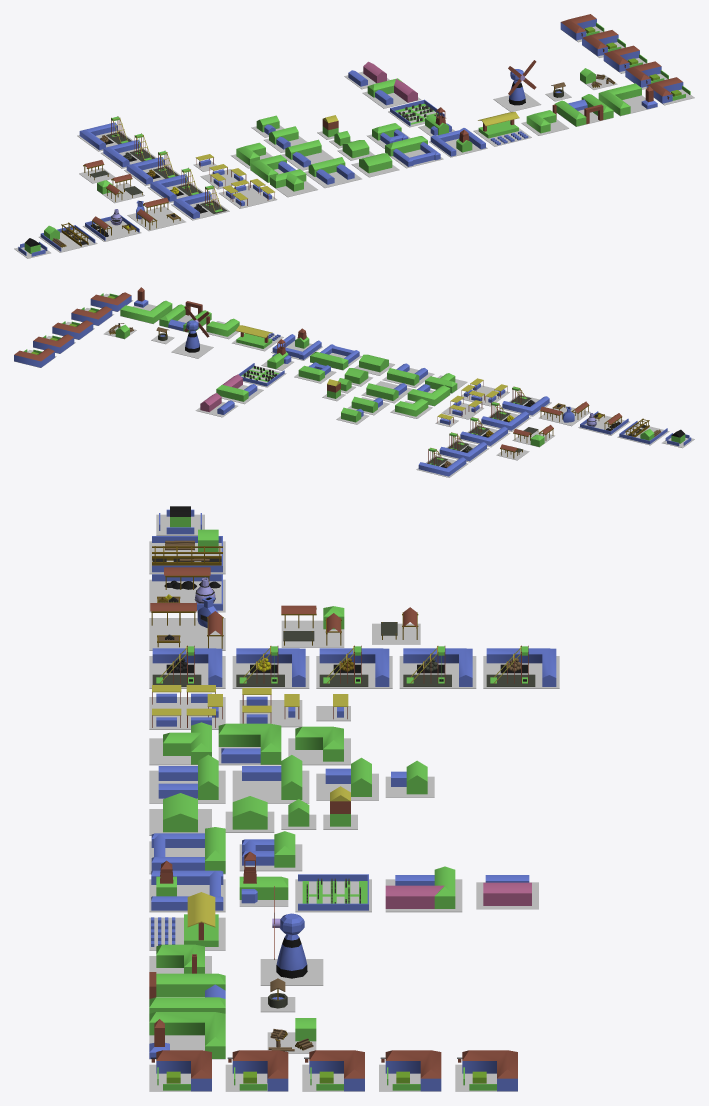
3 views of the same model, one above another, from view 1: azimuth 30°, elevation 25°; view 2: azimuth 150°, elevation 25°; view 3: azimuth 270°, elevation 25° (orthographic). The views are drawn at different scales.
Visible parts, largest first — view 1: building_9m_3m_g_shape_006, ground_11_x_11_012, building_7m_3m_021, building_7m_3m_g_shape_011, building_7m_3m_g_shape_013, building_7m_3m_g_shape_012, building_7m_3m_g_shape_010, building_7m_3m_g_shape_009, building_9m_3m_g_shape_007, building_7m_3m_014, ground_11_x_11_002, building_9m_3m_024 (+16 smaller); view 2: building_9m_3m_g_shape_006, building_7m_3m_g_shape_013, building_9m_3m_g_shape_007, building_7m_3m_g_shape_010, building_7m_3m_g_shape_012, building_7m_3m_g_shape_011, building_7m_3m_g_shape_009, building_7m_3m_021, building_7m_3m_011, building_9m_3m_024, building_9m_3m_026, building_9m_3m_025 (+17 smaller); view 3: building_9m_3m_g_shape_006, building_9m_3m_g_shape_007, ground_11_x_11_012, building_7m_3m_g_shape_010, building_7m_3m_g_shape_012, building_7m_3m_g_shape_009, building_7m_3m_g_shape_011, building_7m_3m_g_shape_013, building_7m_3m_021, building_7m_3m_014, Cylinder002, building_9m_3m_011 (+29 smaller).
Part boxes in pixels (x1,y1,x2,y2): building_9m_3m_g_shape_006: [598, 83, 641, 115]; ground_11_x_11_012: [127, 206, 185, 231]; building_7m_3m_021: [430, 128, 485, 156]; building_7m_3m_g_shape_011: [603, 45, 639, 71]; building_7m_3m_g_shape_013: [560, 14, 596, 40]; building_7m_3m_g_shape_012: [582, 30, 618, 56]; building_7m_3m_g_shape_010: [625, 61, 661, 87]; building_7m_3m_g_shape_009: [646, 77, 683, 103]; building_9m_3m_g_shape_007: [250, 154, 286, 182]; building_7m_3m_014: [393, 142, 440, 166]; ground_11_x_11_002: [219, 184, 277, 208]; building_9m_3m_024: [79, 122, 117, 150]; building_9m_3m_g_shape_006: [120, 300, 172, 323]; building_7m_3m_g_shape_013: [14, 348, 54, 367]; building_9m_3m_g_shape_007: [407, 385, 450, 405]; building_7m_3m_g_shape_010: [71, 306, 112, 325]; building_7m_3m_g_shape_012: [33, 334, 74, 353]; building_7m_3m_g_shape_011: [52, 320, 93, 339]; building_7m_3m_g_shape_009: [90, 292, 131, 311]; building_7m_3m_021: [272, 334, 321, 359]; building_7m_3m_011: [310, 352, 348, 369]; building_9m_3m_024: [418, 457, 466, 476]; building_9m_3m_026: [460, 426, 507, 445]; building_9m_3m_025: [439, 442, 486, 461]; building_9m_3m_g_shape_006: [149, 1012, 225, 1058]; building_9m_3m_g_shape_007: [218, 723, 281, 764]; ground_11_x_11_012: [149, 618, 225, 650]; building_7m_3m_g_shape_010: [232, 1050, 288, 1091]; building_7m_3m_g_shape_012: [385, 1050, 441, 1091]; building_7m_3m_g_shape_009: [156, 1050, 211, 1091]; building_7m_3m_g_shape_011: [309, 1050, 364, 1091]; building_7m_3m_g_shape_013: [462, 1050, 517, 1091]; building_7m_3m_021: [151, 870, 223, 910]; building_7m_3m_014: [151, 833, 204, 870]; Cylinder002: [276, 913, 307, 978]; building_9m_3m_011: [156, 973, 225, 996].
Bounding box in the file's own units: 19600 × 1225 × 5900.
